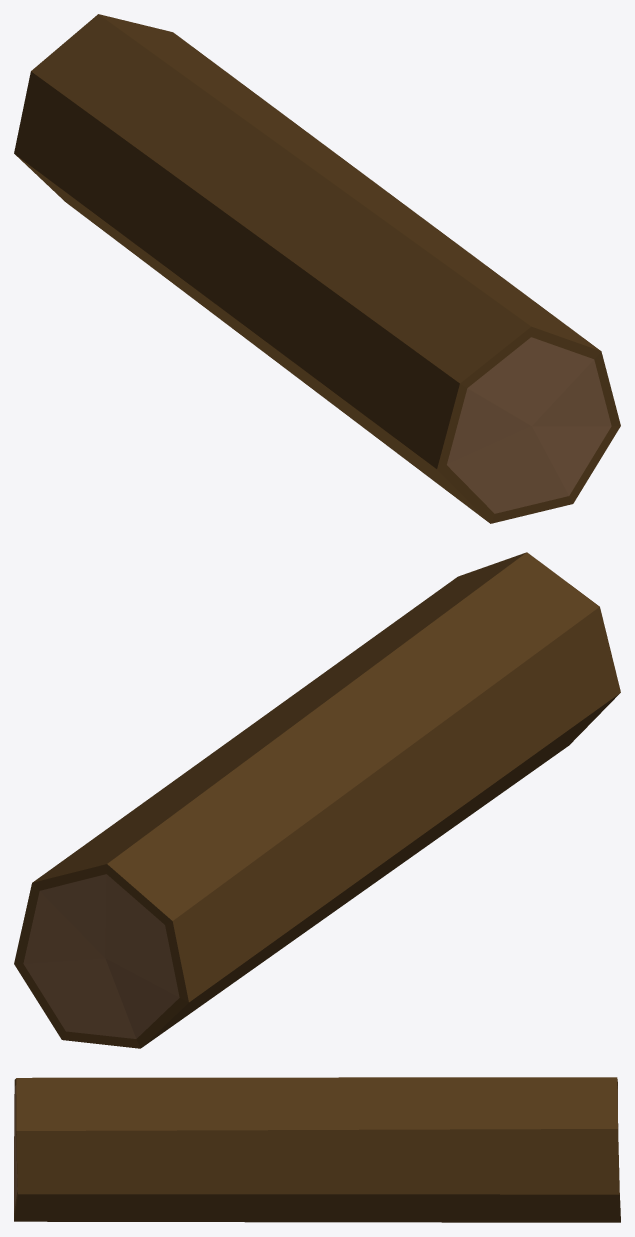
The model's file is wood.glb.
The picture shows the model from 3 angles, top to bottom: view 1: azimuth 30°, elevation 25°; view 2: azimuth 150°, elevation 25°; view 3: azimuth 270°, elevation 25°; orthographic projection. The views are drawn at different scales.
Visible parts, largest first — view 1: SM_Cooking_Prop_Firewood_032; view 2: SM_Cooking_Prop_Firewood_032; view 3: SM_Cooking_Prop_Firewood_032.
Boxes of the visible parts, x1,y1,x2,y2 form: SM_Cooking_Prop_Firewood_032: (14,14,620,523); SM_Cooking_Prop_Firewood_032: (14,552,620,1048); SM_Cooking_Prop_Firewood_032: (14,1077,620,1222).
Bounding box in the file's own units: 0.1352 × 0.1309 × 0.5476.
1 material, 1 textured.
